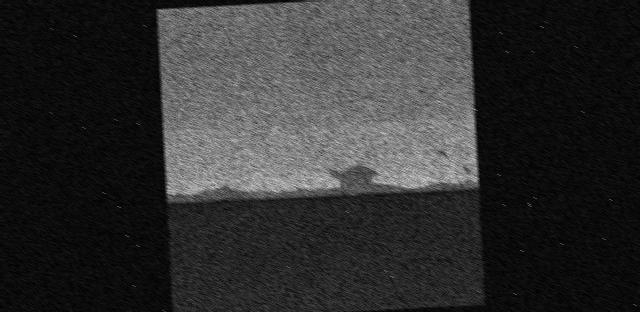water_spot: (163, 133, 479, 223)
